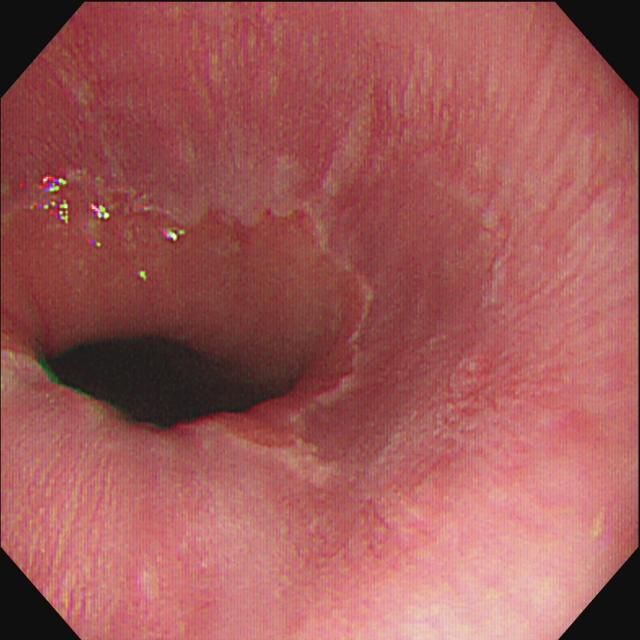E: (42, 324, 262, 442)
I: (16, 140, 377, 481)
U: (33, 174, 72, 228), (89, 201, 114, 222), (162, 224, 187, 245)
